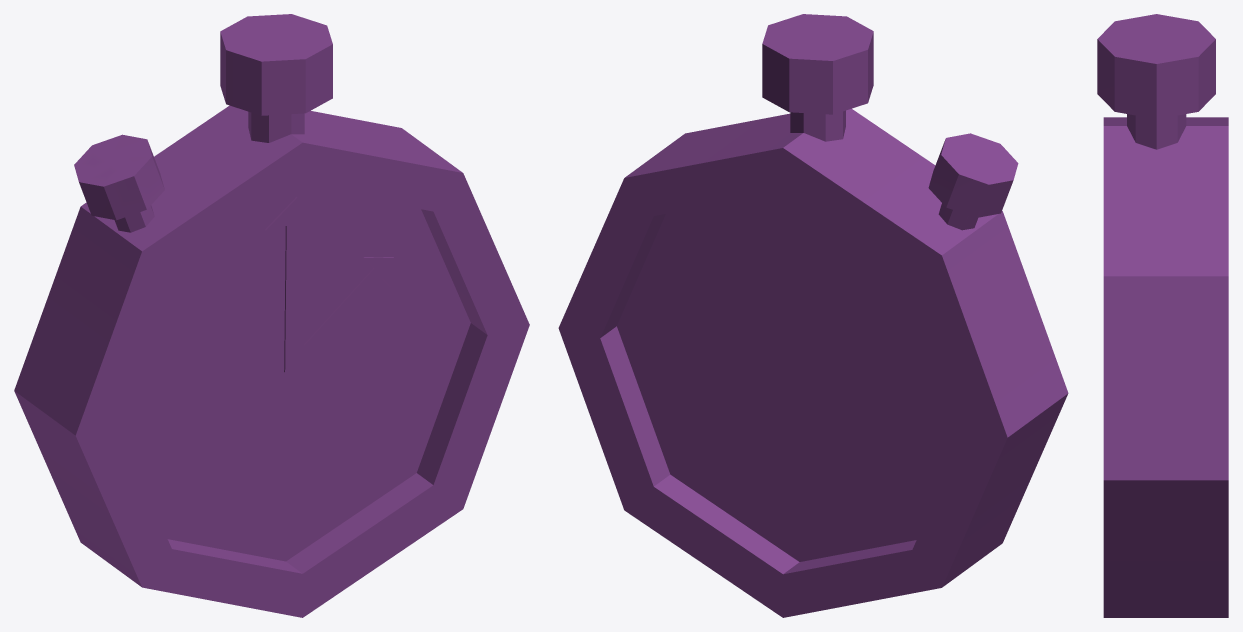
Rendered from chrono.FBX.
The picture shows the model from 3 angles, left to right: view 1: azimuth 30°, elevation 25°; view 2: azimuth 150°, elevation 25°; view 3: azimuth 270°, elevation 25°; orthographic projection. The views are drawn at different scales.
Parts seen in each view (by area): view 1: Cylinder001; view 2: Cylinder001; view 3: Cylinder001.
Part boxes in pixels (bbox=[...]): Cylinder001: bbox=[14, 14, 529, 617]; Cylinder001: bbox=[558, 14, 1068, 617]; Cylinder001: bbox=[1097, 14, 1228, 617].
Size of the model in its own units: 45.92 by 54.2 by 11.3.
